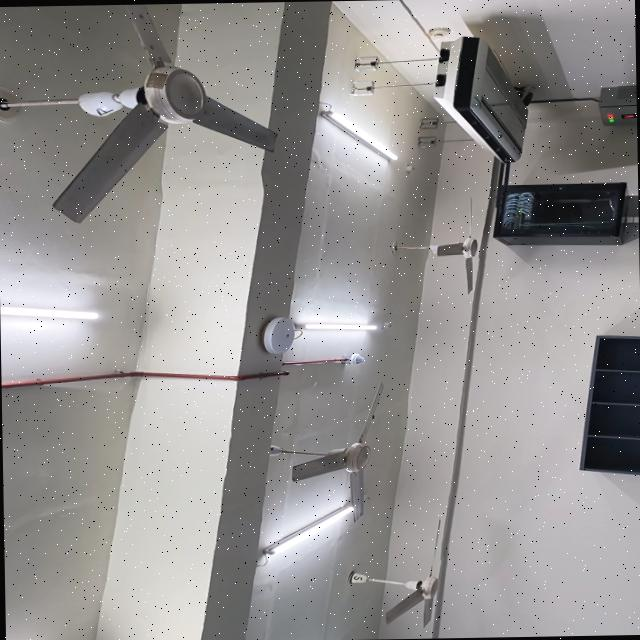Ac: (434, 35, 532, 162)
Light: (257, 501, 353, 565), (319, 101, 397, 160), (0, 305, 100, 318), (295, 323, 378, 329)
